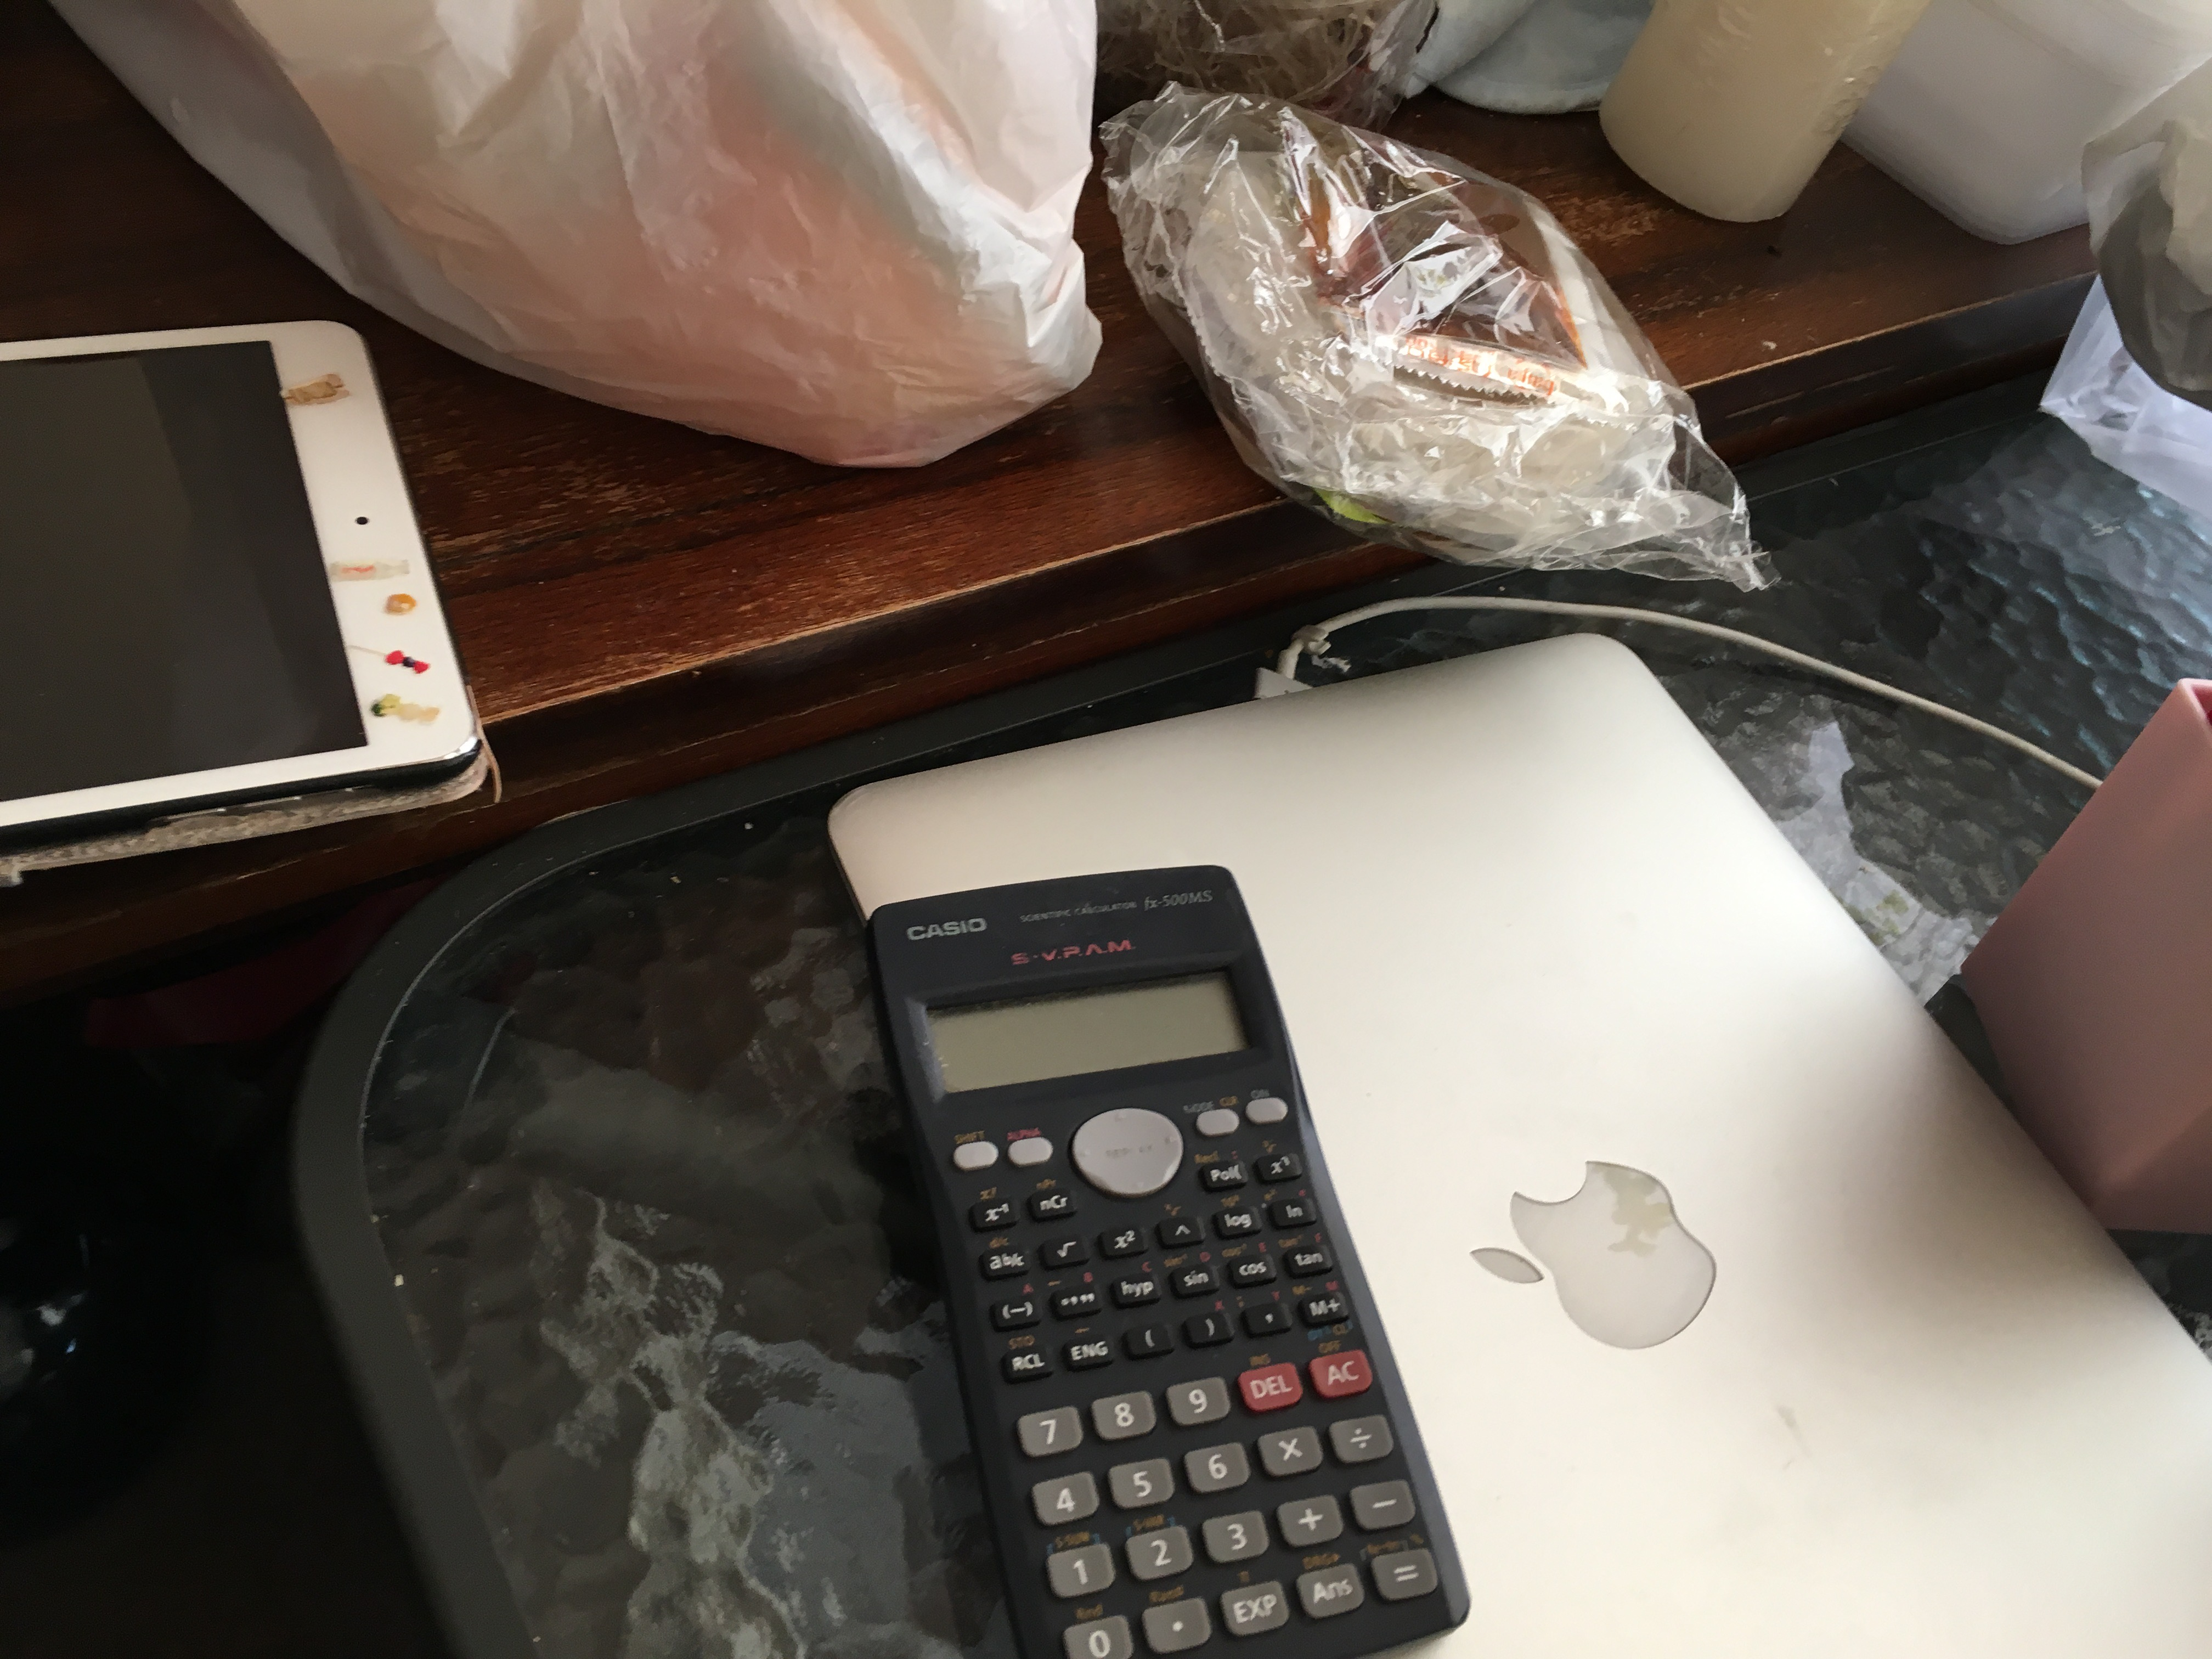Calculator: (853, 857, 1480, 1659)
